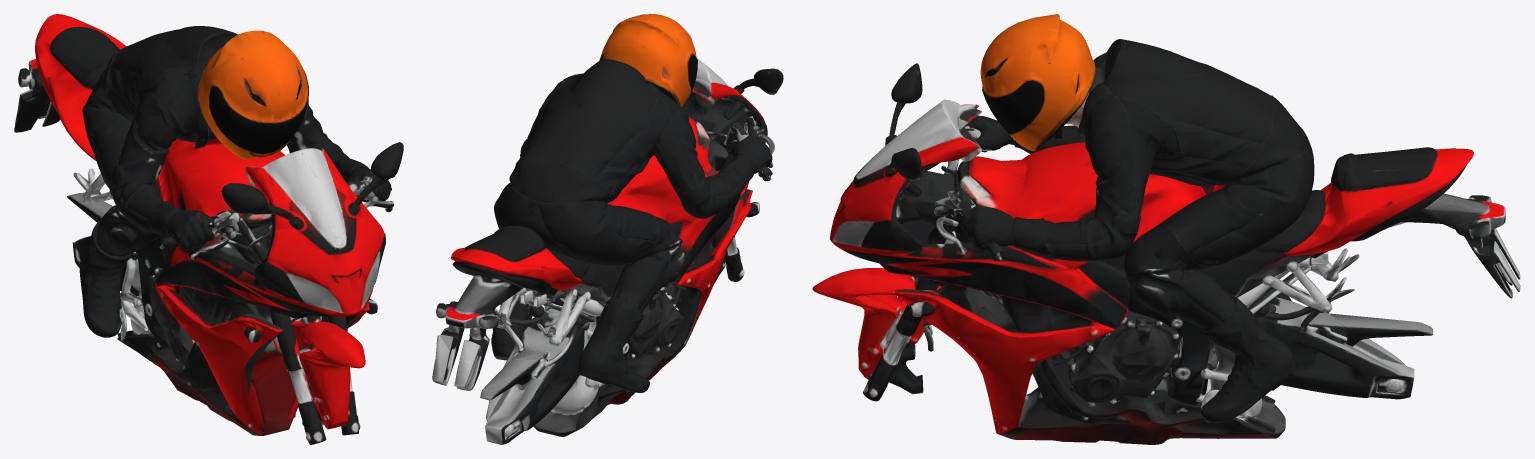
Rendered from 2_nowheel.glb.
The picture shows the model from 3 angles, left to right: view 1: azimuth 30°, elevation 25°; view 2: azimuth 150°, elevation 25°; view 3: azimuth 270°, elevation 25°; orthographic projection. The views are drawn at different scales.
Parts seen in each view (by area): view 1: Mesh_0; view 2: Mesh_0; view 3: Mesh_0.
Part boxes in pixels (box(x1,y1,x2,y2)): Mesh_0: box(14, 14, 403, 444); Mesh_0: box(432, 14, 783, 444); Mesh_0: box(812, 14, 1520, 444).
Bounding box in the file's own units: 0.8763 × 1.4 × 2.17.
Materials: 1 (1 with a texture image).
